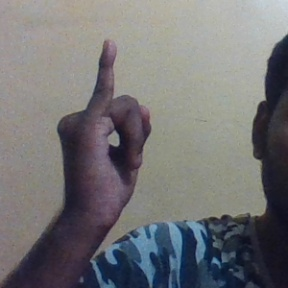I: (52, 35, 160, 215)
